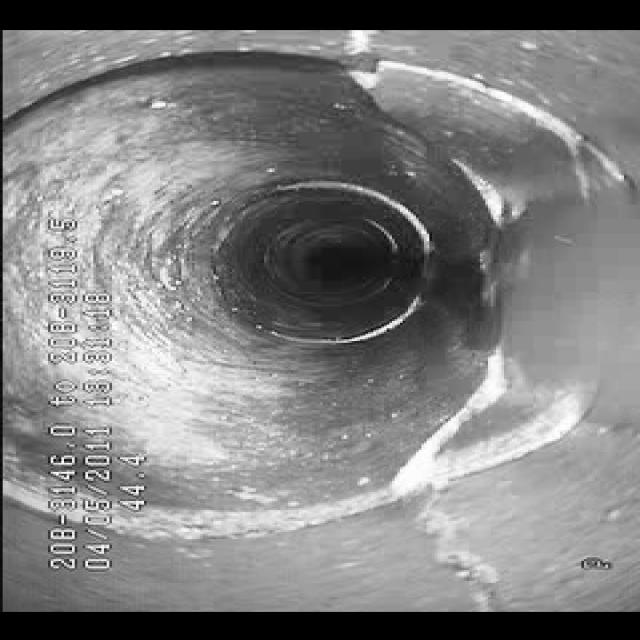Fracture: (339, 366, 549, 600)
